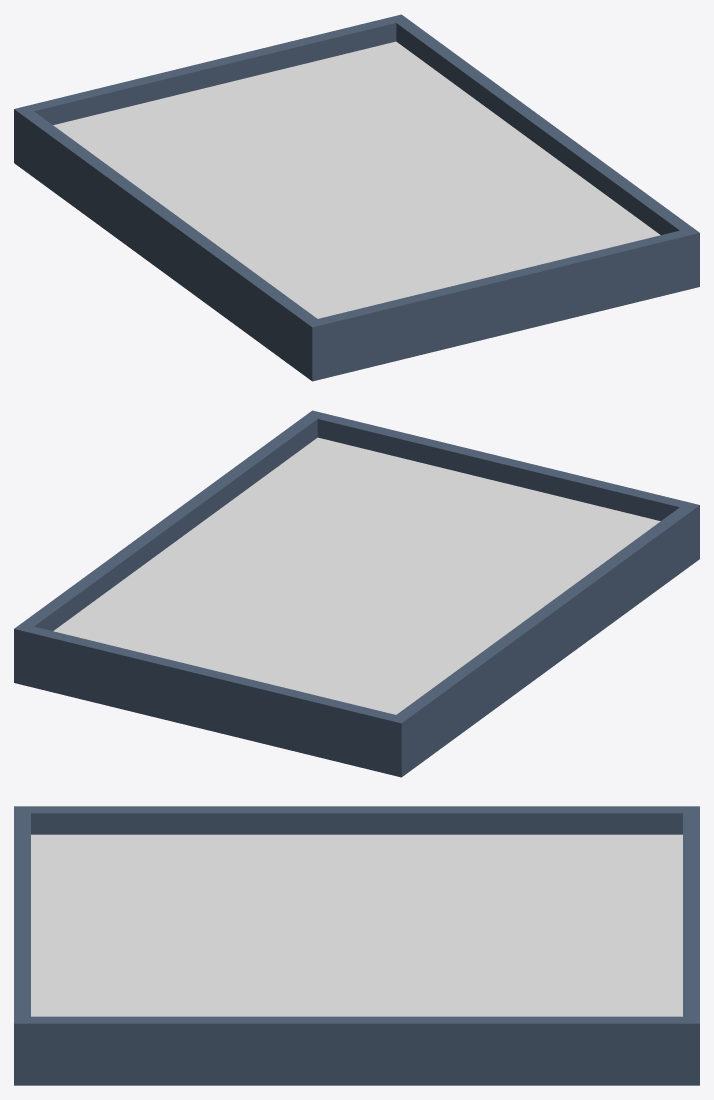
The model's file is YapışkanZemin.fbx.
The picture shows the model from 3 angles, top to bottom: view 1: azimuth 30°, elevation 25°; view 2: azimuth 150°, elevation 25°; view 3: azimuth 270°, elevation 25°; orthographic projection. The views are drawn at different scales.
Parts seen in each view (by area): view 1: Cube; view 2: Cube; view 3: Cube.
Part boxes in pixels (<box>): Cube: <box>14,14,699,381</box>; Cube: <box>14,410,699,777</box>; Cube: <box>14,806,699,1085</box>.
Bounding box in the file's own units: 1.5 × 0.2 × 2.
